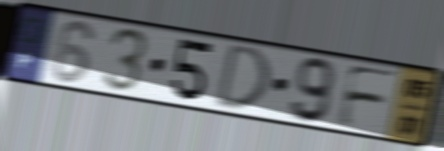3: (100, 26, 150, 95)
5: (169, 36, 214, 103)
6: (48, 19, 100, 85)
9: (289, 55, 337, 126)
D: (212, 42, 273, 112)
F: (333, 62, 402, 130)
